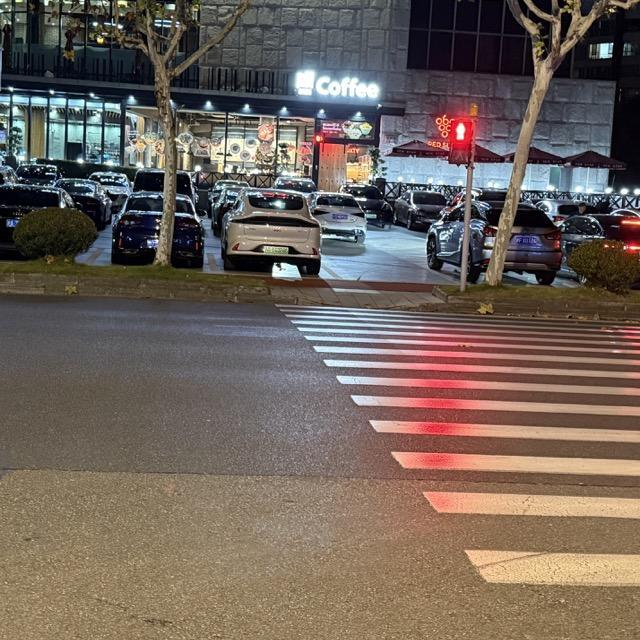curb: (0, 280, 296, 303), (407, 303, 639, 323)
